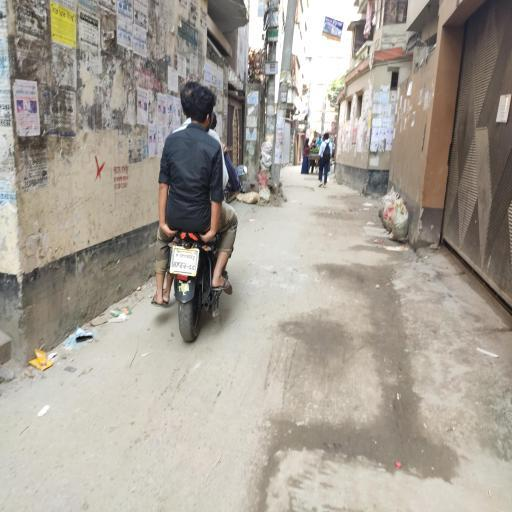number plate: (166, 233, 221, 283)
triple riding: (157, 68, 255, 342)
